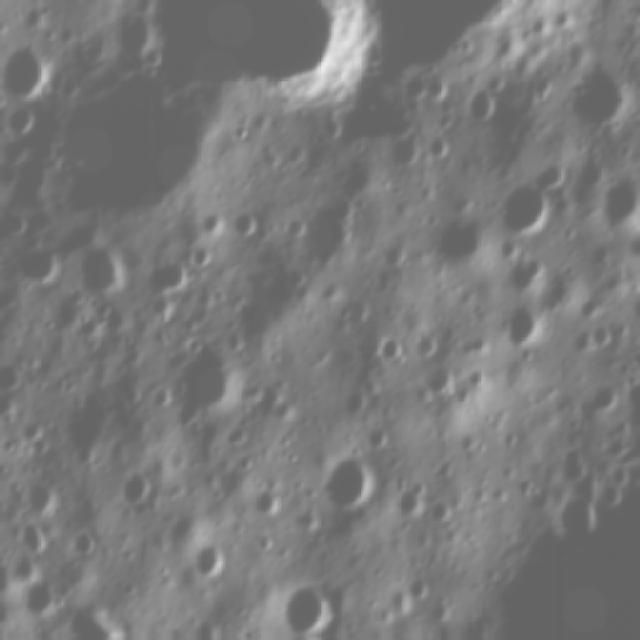crater: (160, 17, 357, 100), (170, 352, 255, 422), (498, 164, 570, 241), (4, 27, 64, 108), (562, 70, 633, 136), (74, 245, 129, 301), (281, 589, 347, 633), (487, 313, 550, 355), (147, 255, 196, 307), (325, 461, 377, 502), (120, 470, 154, 515), (194, 540, 231, 578), (468, 86, 498, 126)
